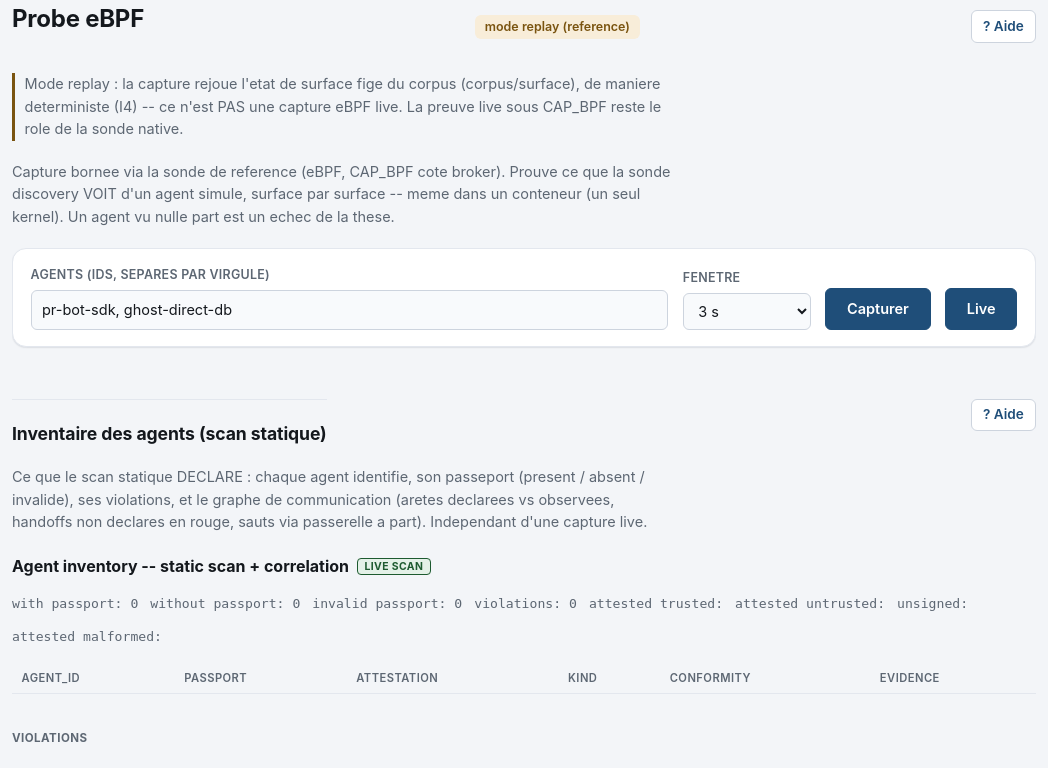
Test: ProbePage › surfaces a capture error inline (fail-safe 503)
This screenshot has width=1048, height=768.
Click the button with test id "probe-capture-button" at (878, 309), box [825, 288, 931, 330]
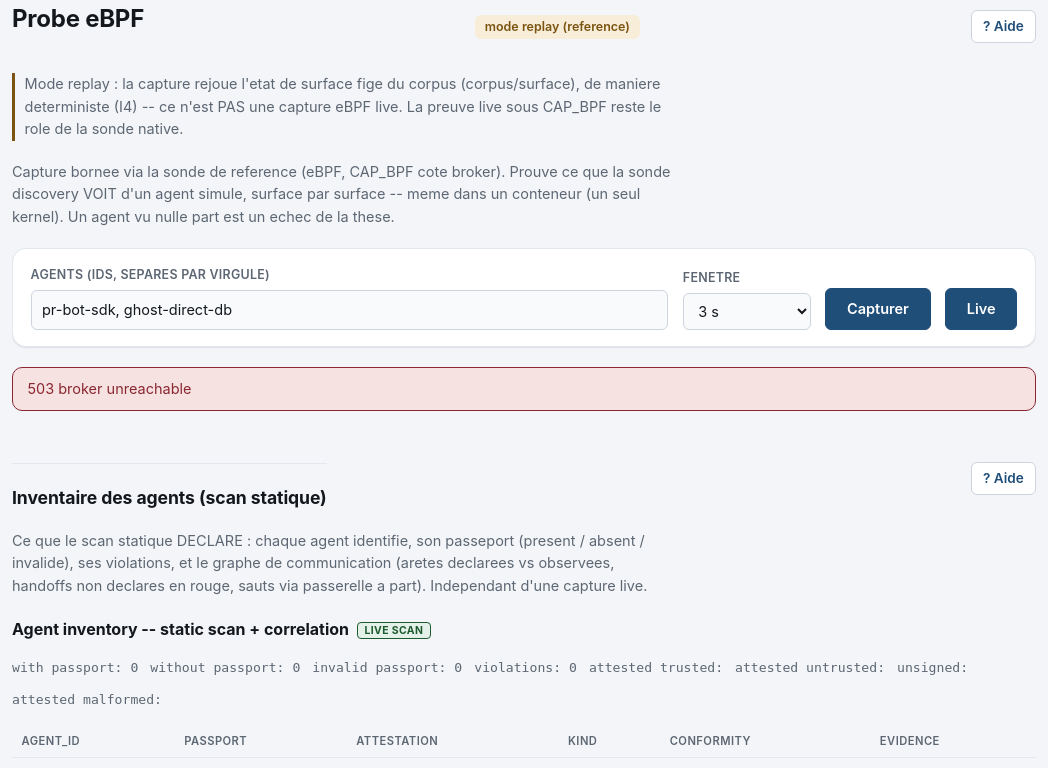
Result: the message with test id "probe-error" reads "503 broker unreachable" at [27, 380, 192, 397]
